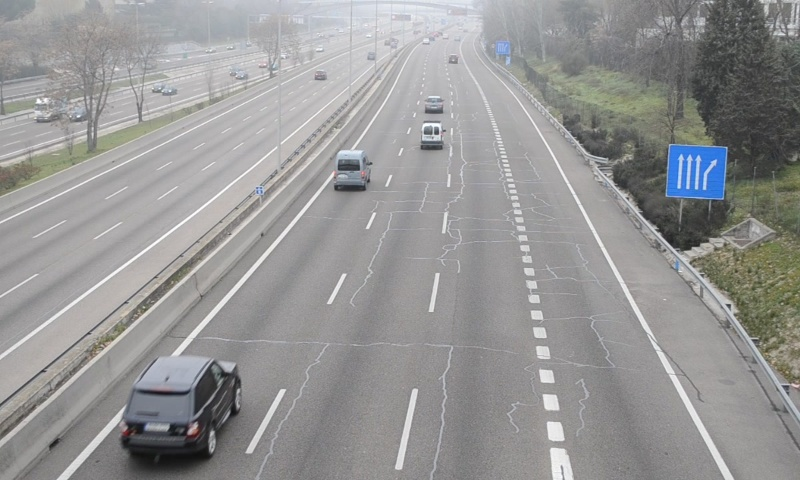car: (121, 355, 240, 457), (424, 95, 444, 113)
van: (333, 150, 372, 188), (420, 119, 445, 151)
